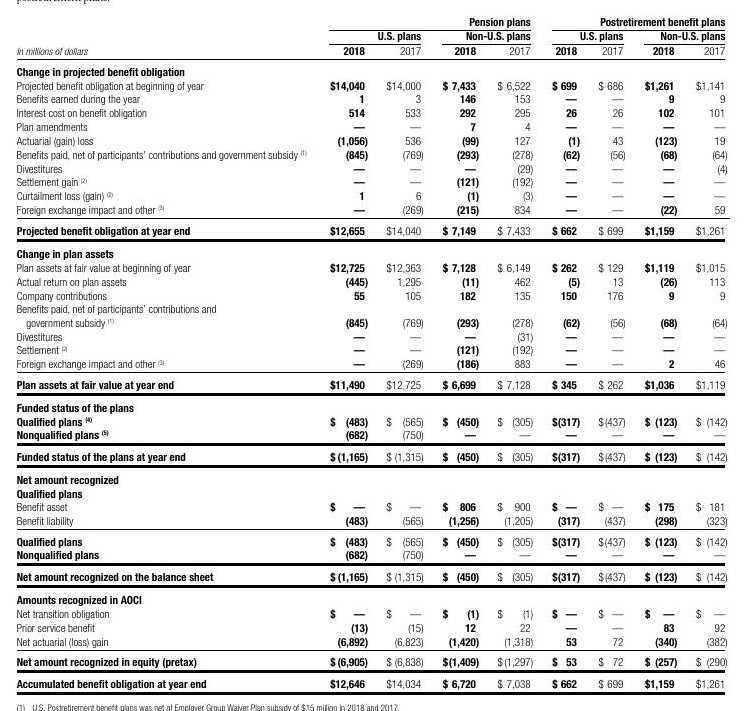table: (0, 0, 745, 711)
